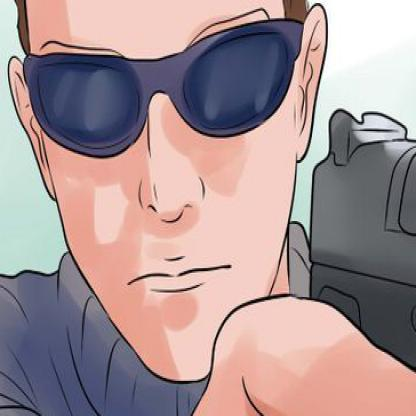gun: (294, 81, 415, 414)
